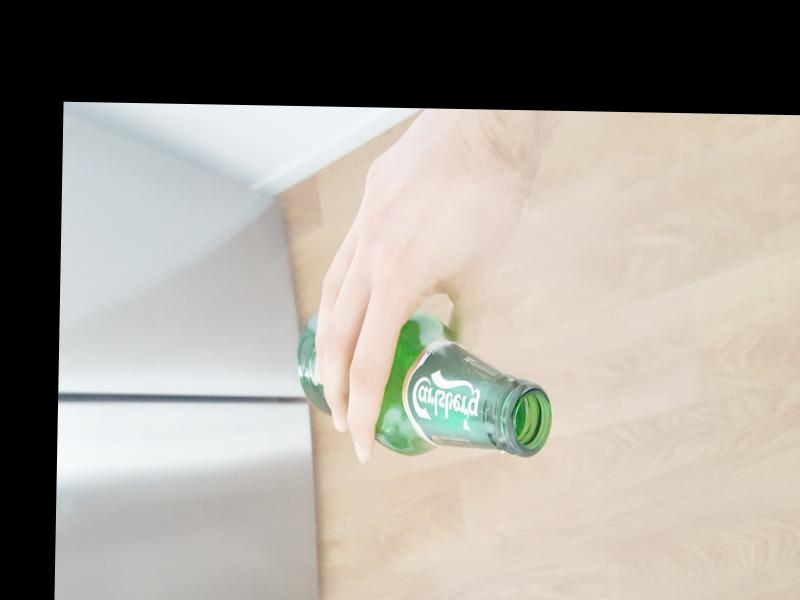Beer: (296, 310, 554, 457)
